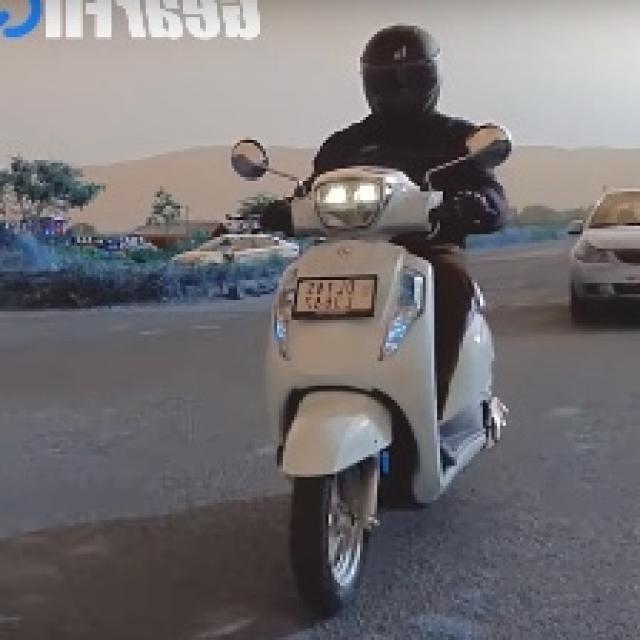motorcycle: (216, 124, 500, 598)
